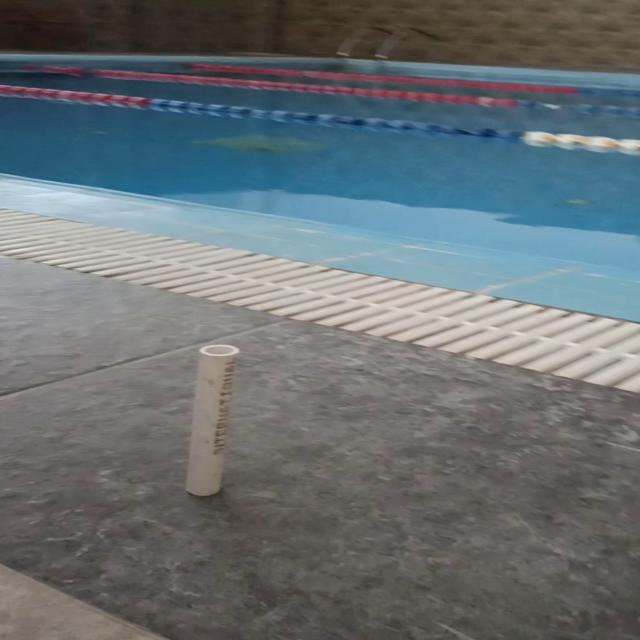Cube: (183, 344, 240, 496)
